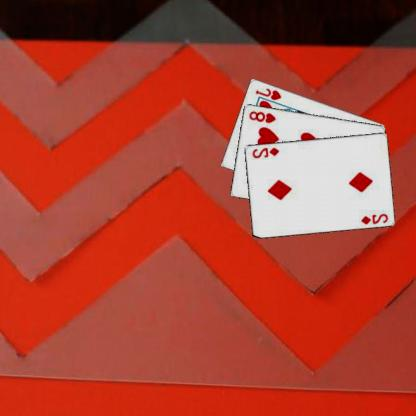2D: (251, 145, 282, 159), (360, 211, 391, 225)
8H: (248, 108, 279, 124)
JH: (255, 86, 284, 102)
